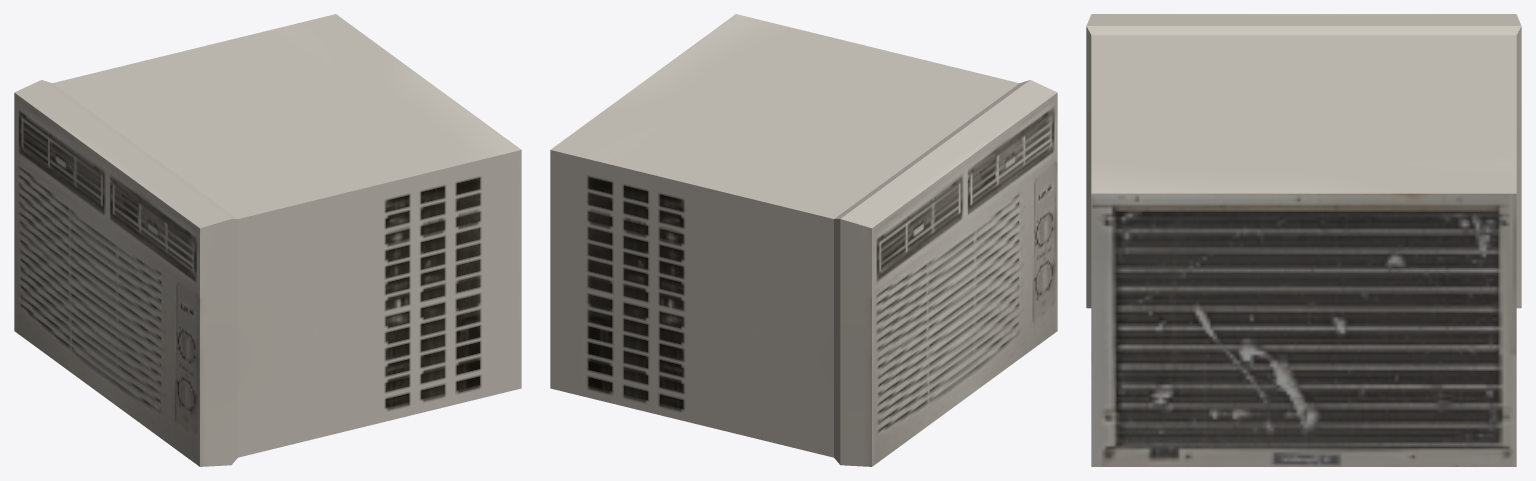
Rendered from conditioner.glb.
The picture shows the model from 3 angles, left to right: view 1: azimuth 30°, elevation 25°; view 2: azimuth 150°, elevation 25°; view 3: azimuth 270°, elevation 25°; orthographic projection. The views are drawn at different scales.
Parts seen in each view (by area): view 1: air-conditioning.001; view 2: air-conditioning.001; view 3: air-conditioning.001.
Part boxes in pixels (x1,y1,x2,y2): air-conditioning.001: (14,14,521,466); air-conditioning.001: (550,14,1057,466); air-conditioning.001: (1086,14,1521,466).
Bounding box in the file's own units: 0.7237 × 0.5295 × 0.7404.
Materials: 1 (1 with a texture image).
